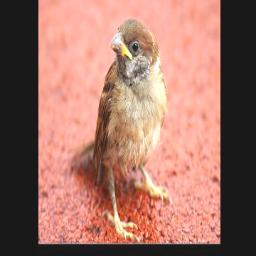Sparrow: (70, 16, 174, 241)
